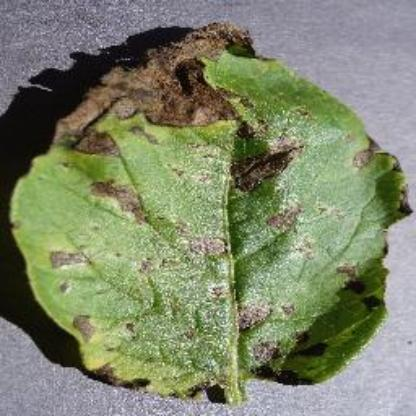Early-Blight: (7, 15, 412, 407)
